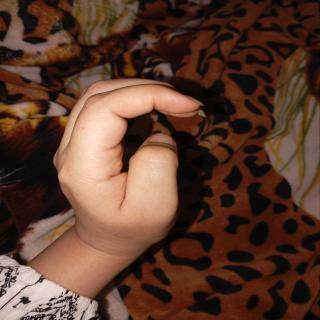JEEM: (52, 70, 215, 252)
